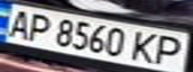0: (106, 25, 130, 58)
5: (69, 19, 93, 52)
6: (87, 22, 109, 55)
8: (48, 16, 78, 48)
A: (0, 7, 36, 39)
K: (127, 29, 163, 64)
P: (148, 33, 190, 66), (21, 11, 57, 43)
